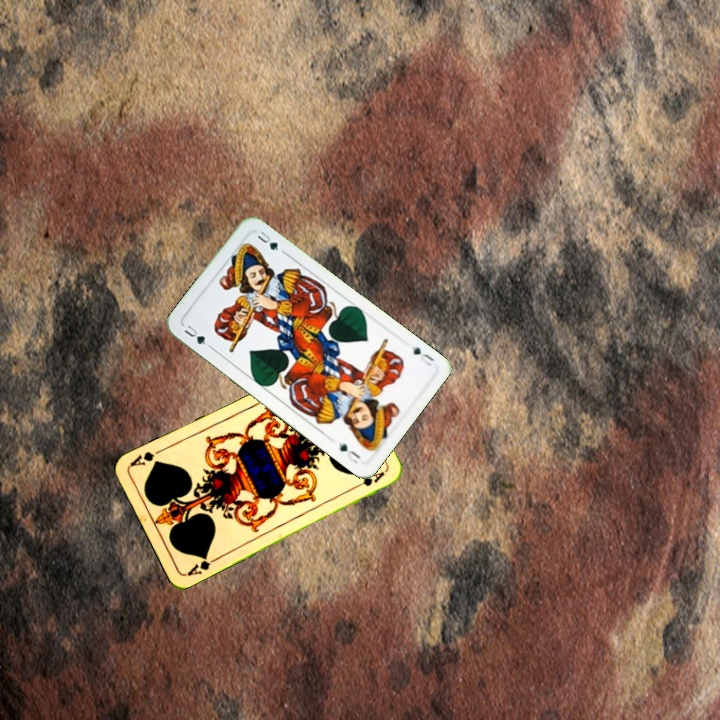GA: (182, 551, 220, 579)
GU: (407, 342, 437, 369), (180, 321, 208, 347)
